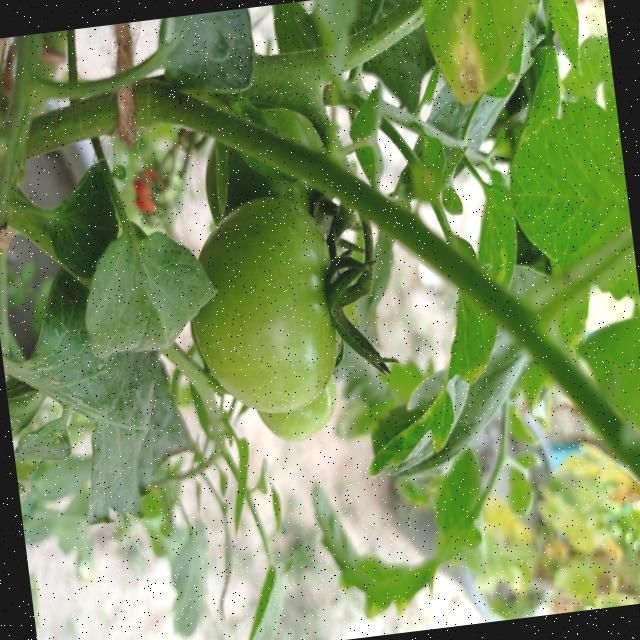Unripe: (179, 189, 353, 416)
